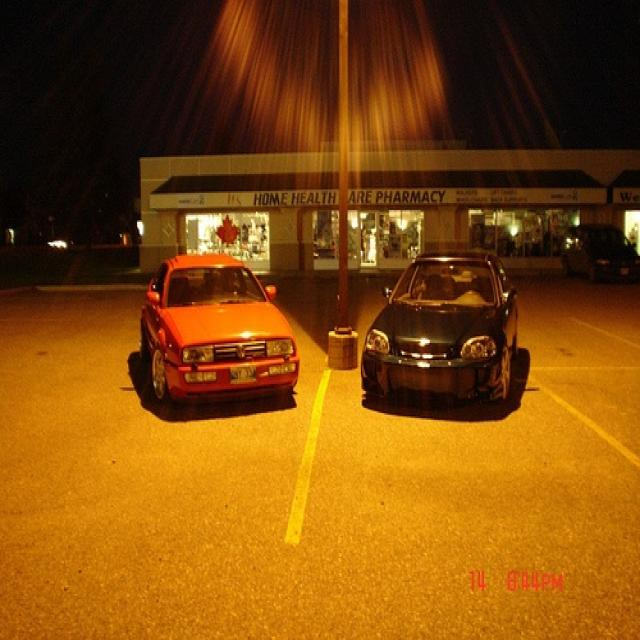car: (358, 252, 521, 408), (141, 253, 299, 406)
